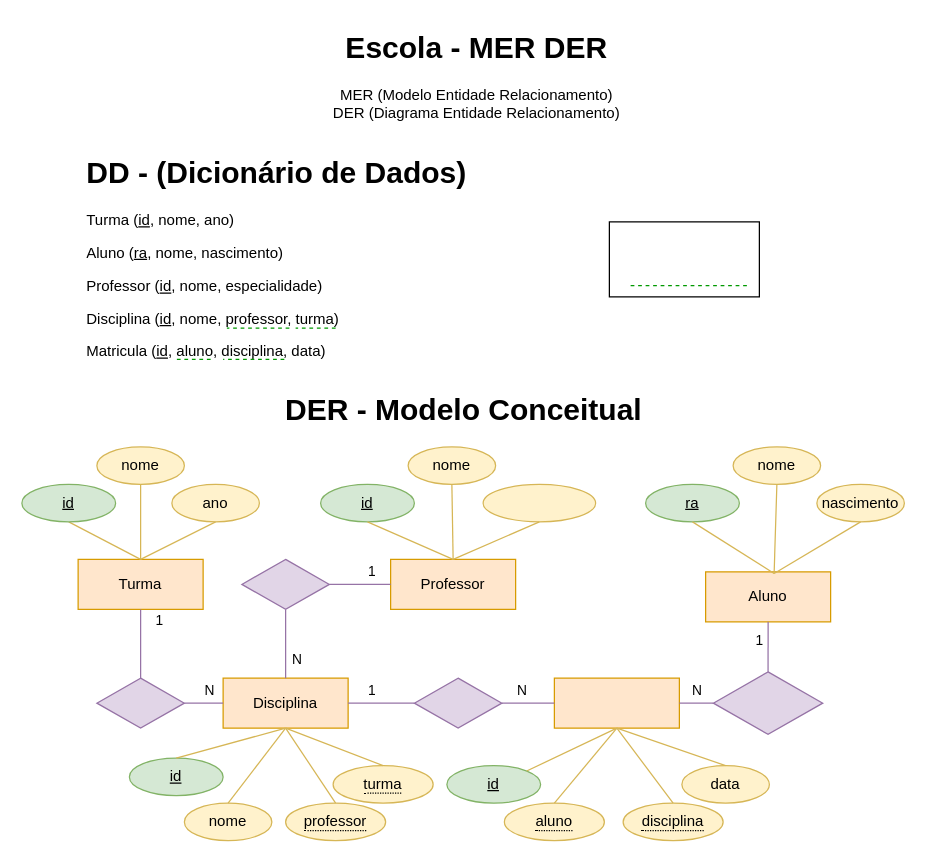
Image size: 926x863. Some labels were removed from this diagram. The box of each missing label's shape, as (x1, y1, x2, y2) in pixels:
contém: (413, 677, 502, 728)
especialidade: (482, 483, 596, 522)
faz: (712, 671, 823, 734)
leciona: (241, 558, 329, 609)
Legenda Chave primária Chave estrangeira: (608, 221, 759, 297)
Matricula: (553, 677, 679, 728)
possui: (96, 677, 184, 728)
